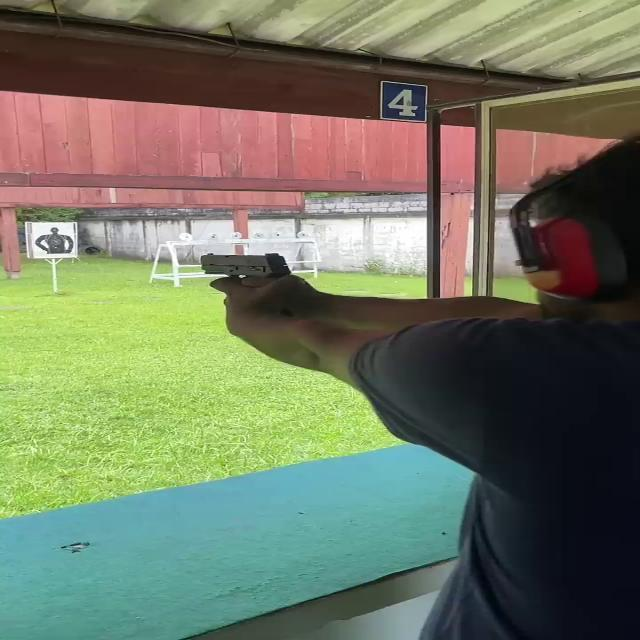Handgun: (196, 249, 320, 324)
